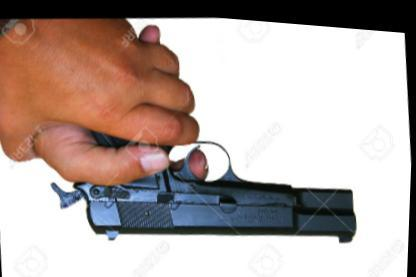pistol: (44, 91, 363, 260)
